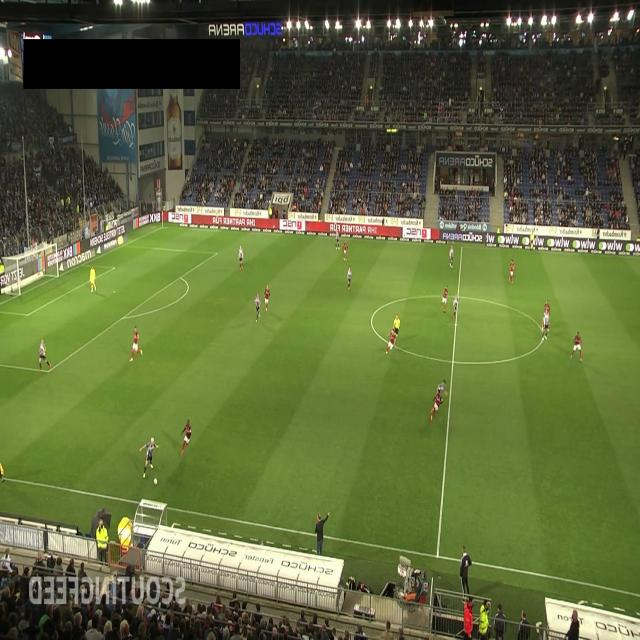ball: (154, 478, 157, 485)
goalkeeper: (89, 264, 97, 293)
player: (141, 436, 161, 478), (129, 325, 143, 362), (180, 418, 192, 457), (432, 378, 449, 404), (430, 389, 443, 422), (38, 338, 51, 371), (570, 331, 583, 362), (385, 328, 396, 355), (542, 298, 550, 332), (542, 309, 550, 341), (392, 314, 400, 339), (441, 285, 448, 313), (254, 292, 260, 323), (264, 284, 270, 312), (452, 294, 458, 320), (509, 258, 515, 284), (346, 265, 352, 291), (238, 244, 244, 270), (449, 244, 454, 269), (342, 240, 348, 260), (334, 231, 340, 250)
referee: (529, 229, 535, 251)
